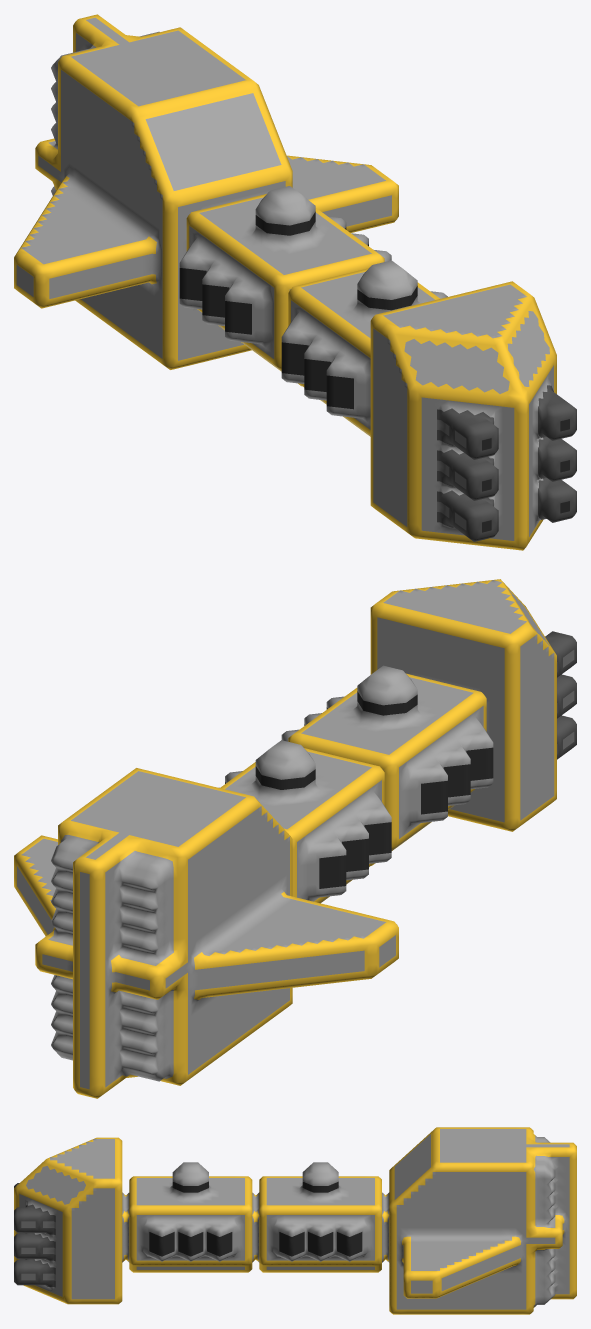
Rendered from mechyrdia-4-imperium-class.obj.
The picture shows the model from 3 angles, top to bottom: view 1: azimuth 30°, elevation 25°; view 2: azimuth 150°, elevation 25°; view 3: azimuth 270°, elevation 25°; orthographic projection. The views are drawn at different scales.
Bounding box in the file's own units: 37 × 23 × 78.
1 material, 1 textured.
